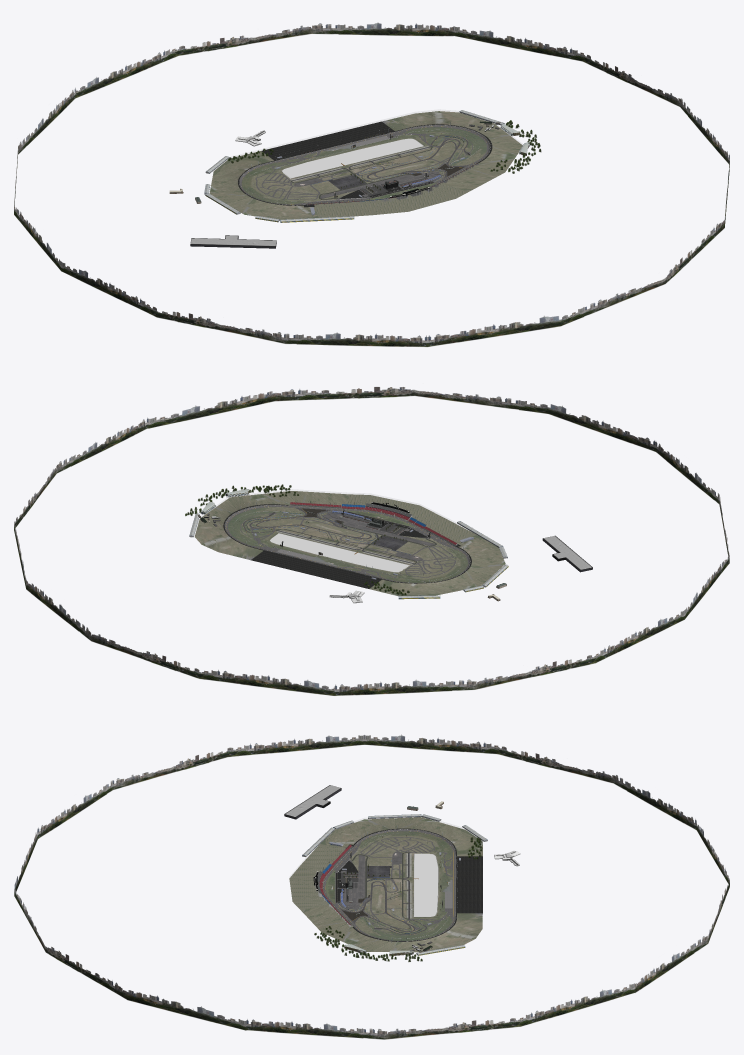
The model's file is daytona_oval.glb.
The picture shows the model from 3 angles, top to bottom: view 1: azimuth 30°, elevation 25°; view 2: azimuth 150°, elevation 25°; view 3: azimuth 270°, elevation 25°; orthographic projection. The views are drawn at different scales.
Visible parts, largest first — view 1: daytona_thr_0; view 2: daytona_thr_0; view 3: daytona_thr_0.
Boxes of the visible parts, x1=… form: daytona_thr_0: x1=14, y1=22, x2=729, y2=346; daytona_thr_0: x1=14, y1=387, x2=729, y2=695; daytona_thr_0: x1=14, y1=734, x2=729, y2=1039.
Size of what is drawn, in the model's own units: 4374 by 165 by 4443.
Materials: 100 (99 with a texture image).
